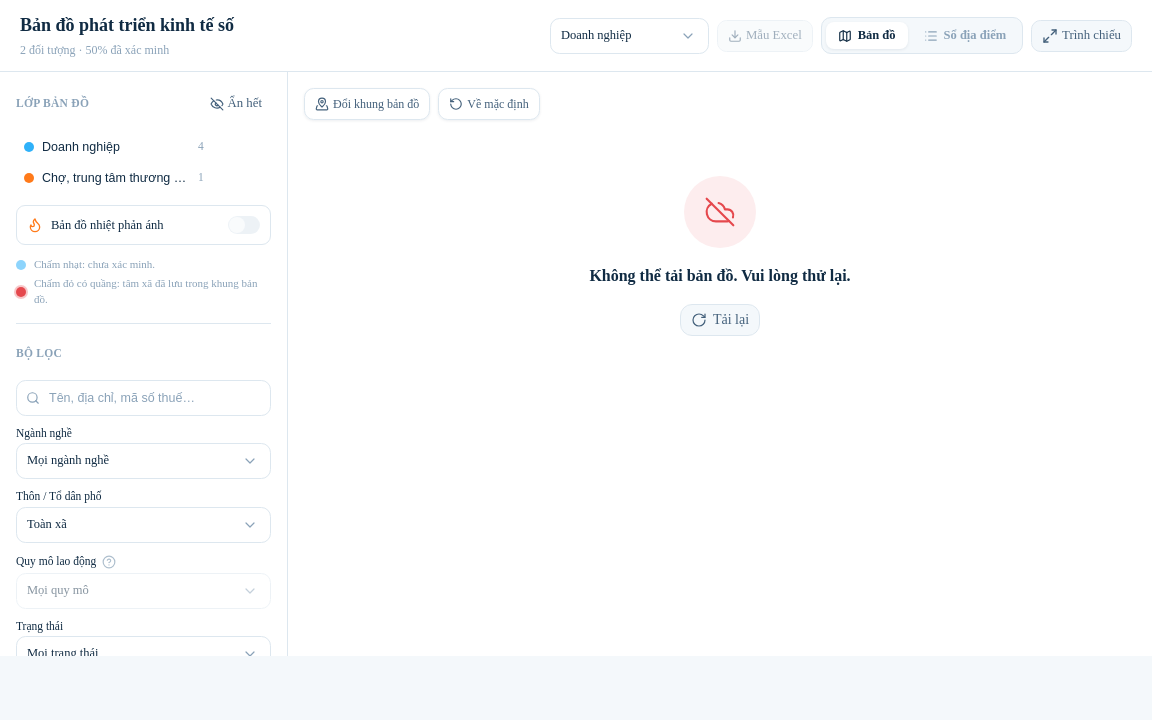
Test: frame change goes through the legal notice (K4) › 422 and the reload brings a NEWER version than this page carries: refused here until the page is reloaded
Click the button "Đổi khung bản đồ": {"x": 367, "y": 104} [304,88,430,120]
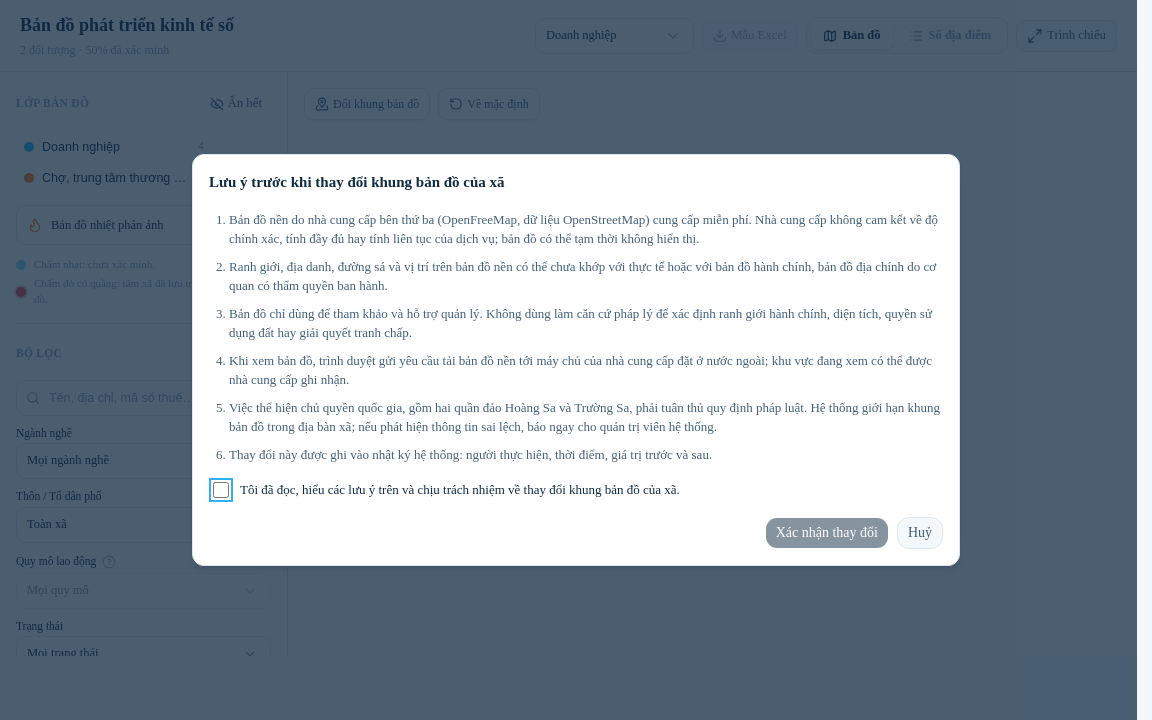
Click the checkbox: {"x": 221, "y": 490} [213,482,229,498]
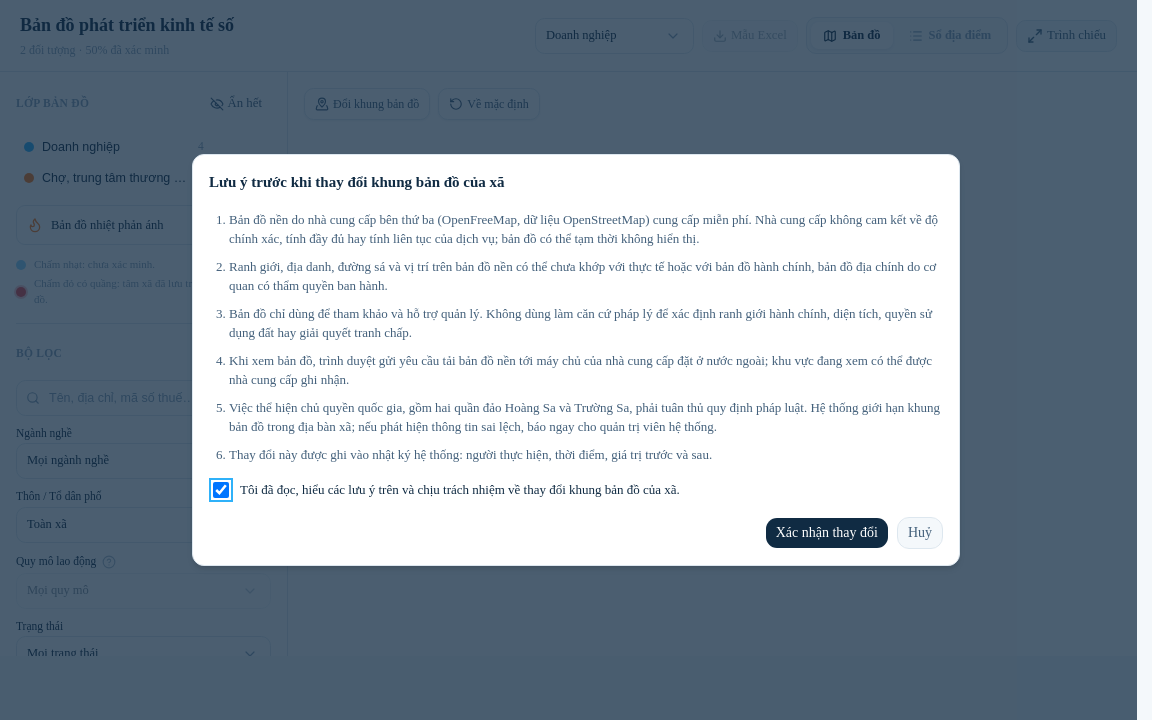
Click the button "Xác nhận thay đổi": {"x": 827, "y": 533} [765,517,889,549]
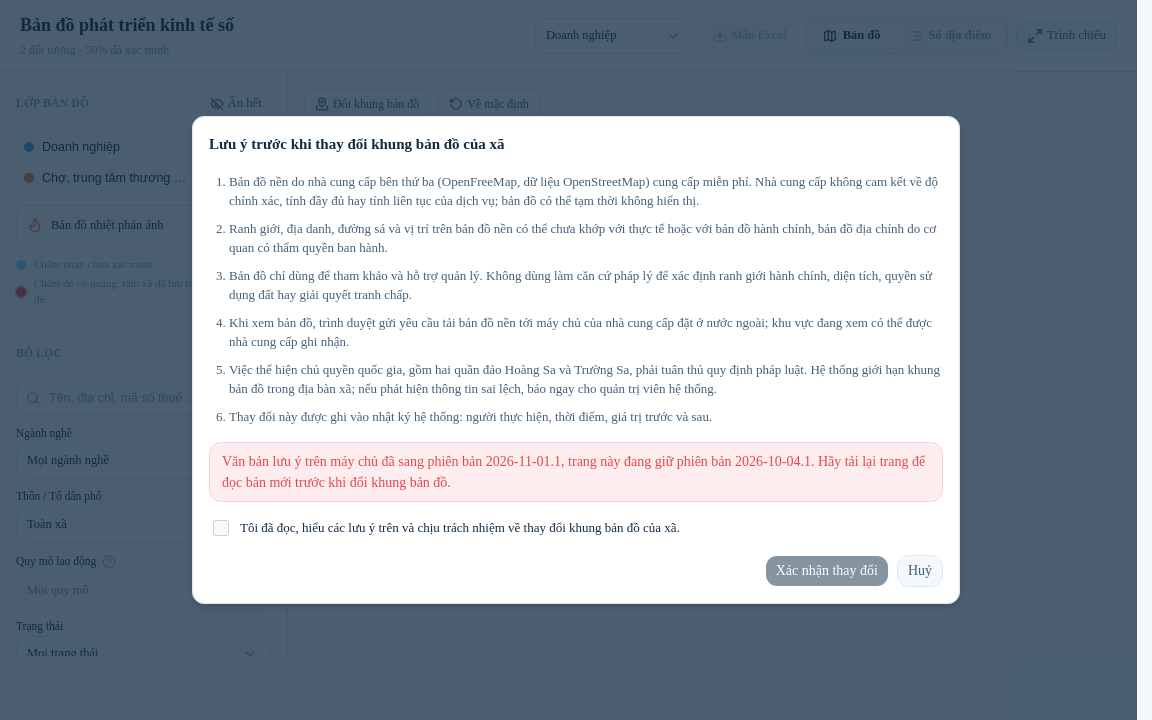
Expected: the checkbox is disabled, [213,520,229,536]
Expected: the button "Xác nhận thay đổi" is disabled, [765,555,889,587]
